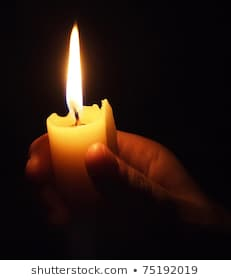Fire: (63, 20, 89, 113)
